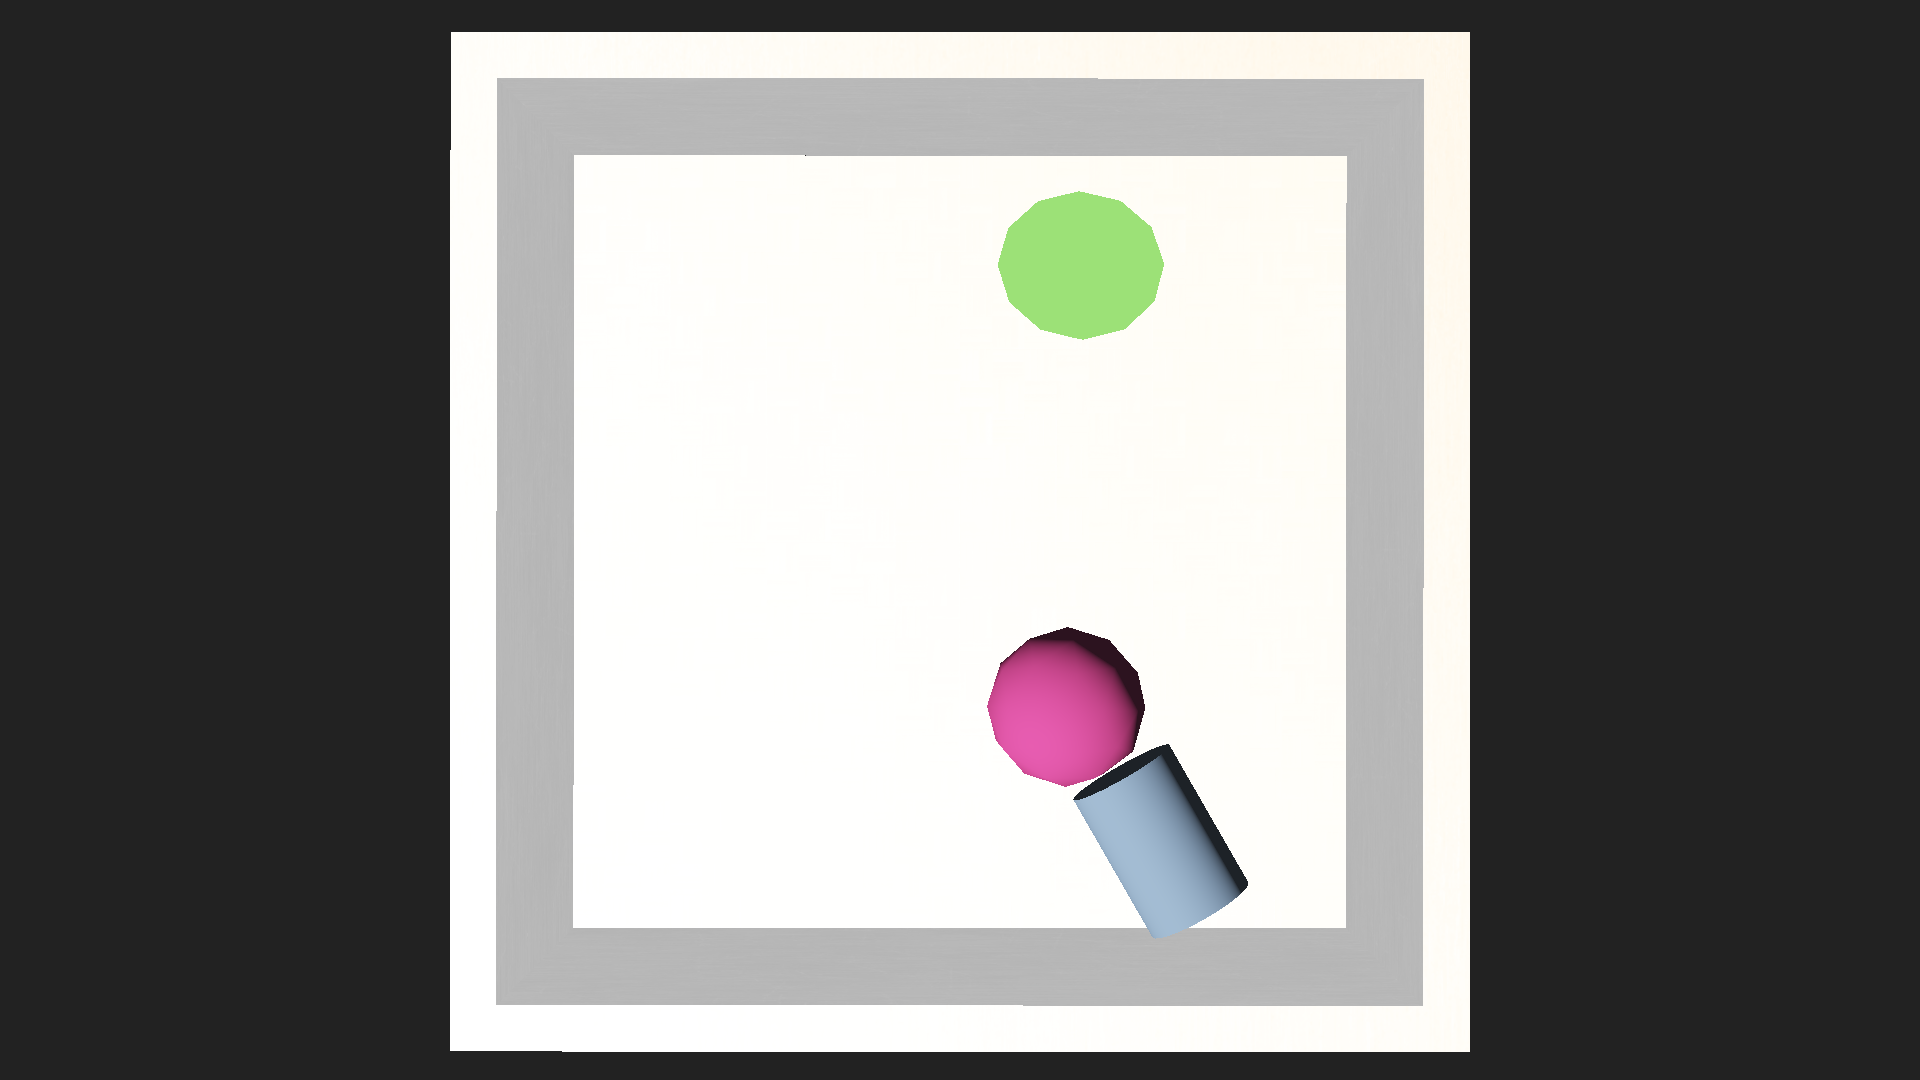cone: (1069, 738, 1254, 945)
cylinder: (1001, 190, 1159, 405)
sphere: (986, 626, 1146, 786)
